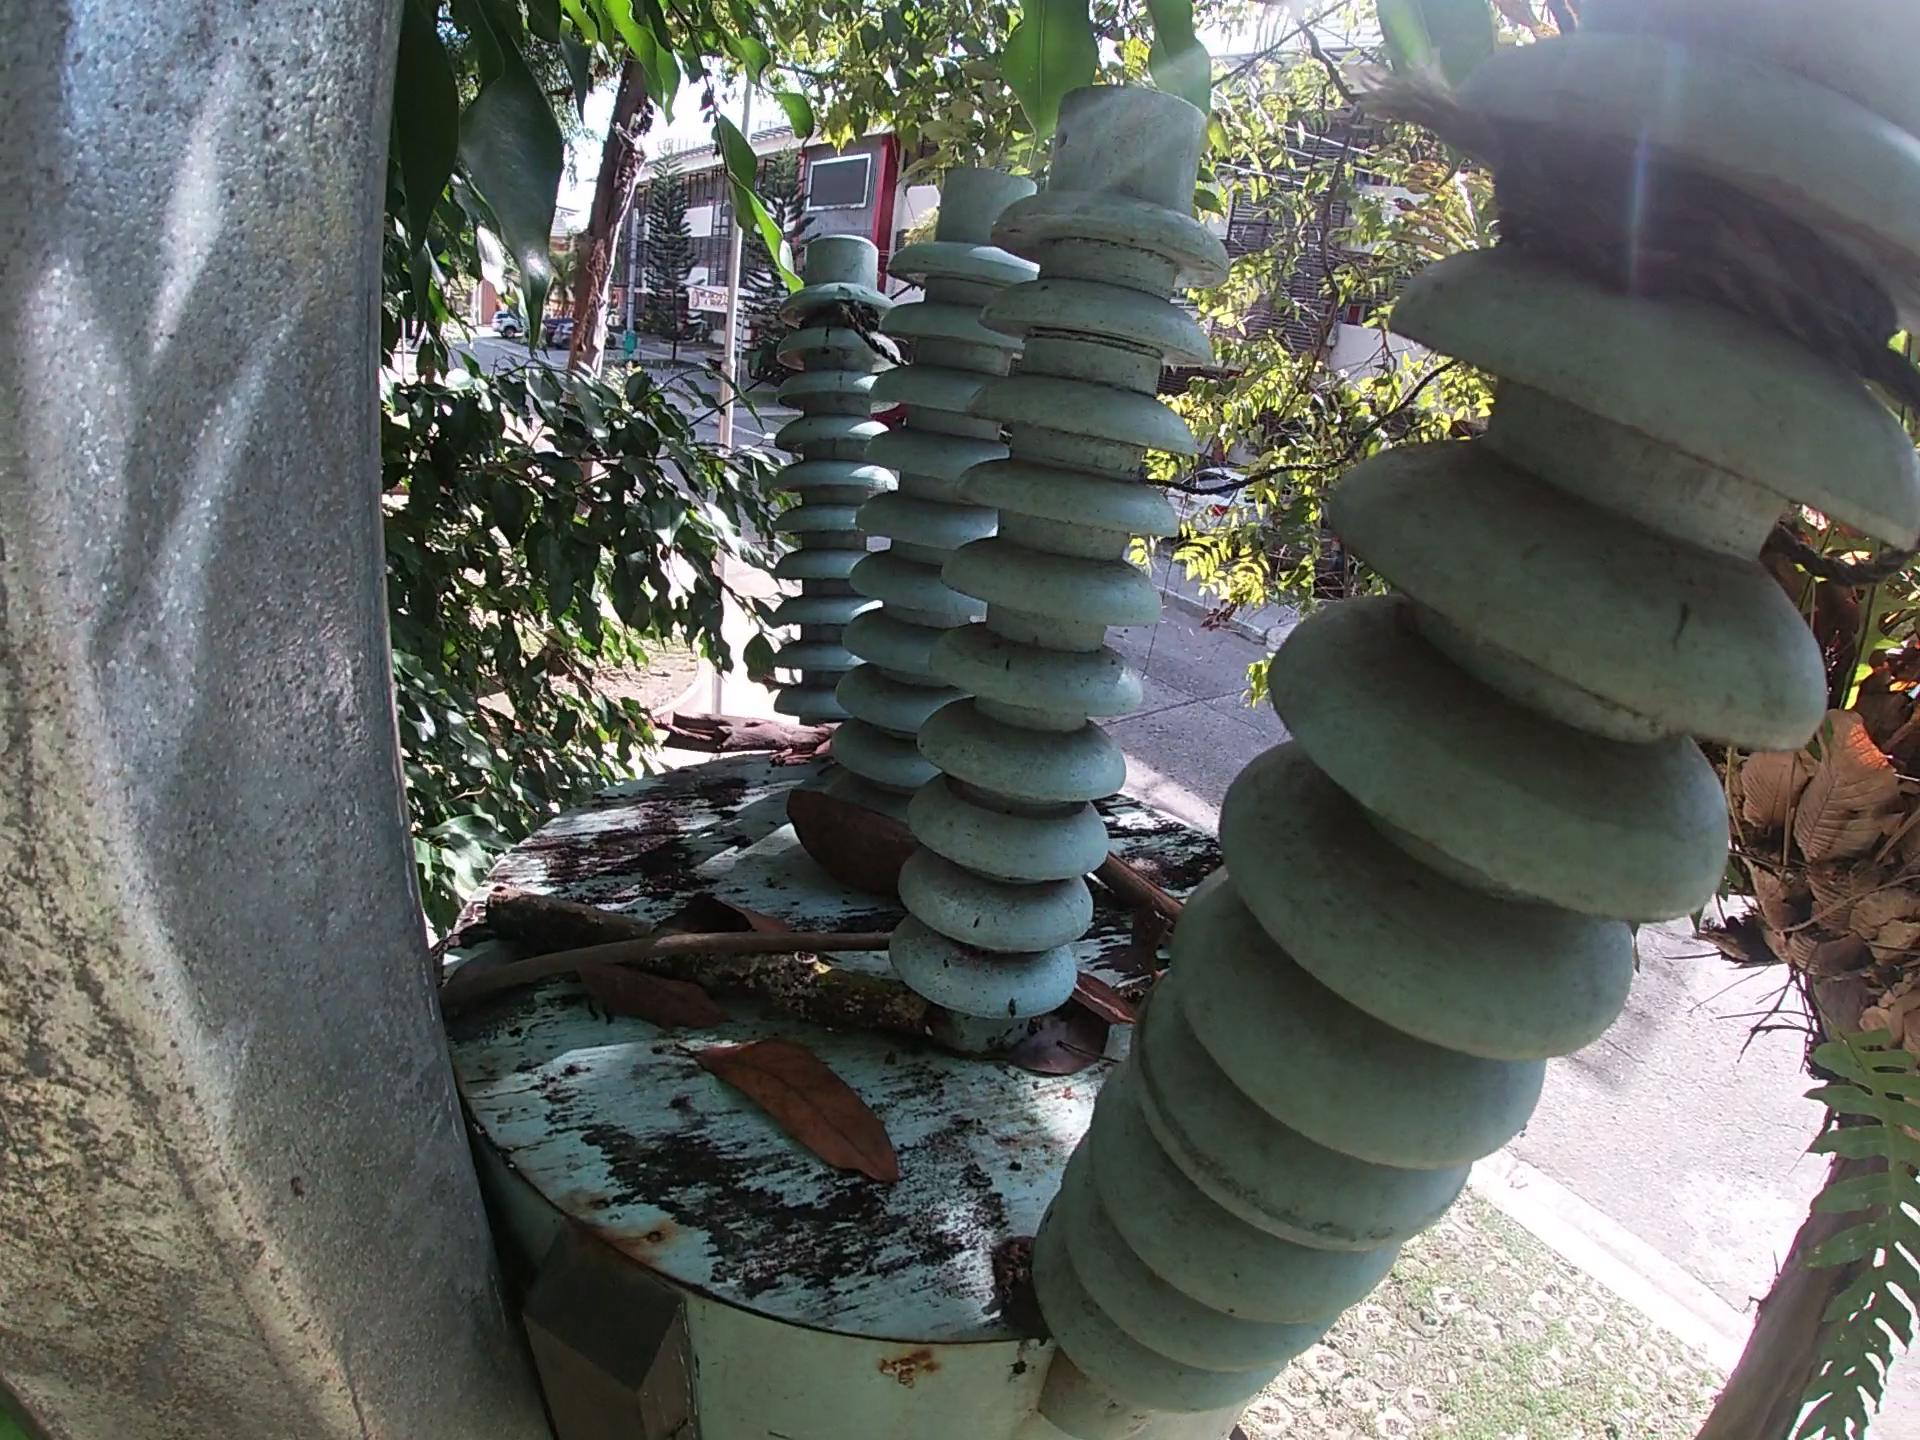leaf: (664, 1035, 912, 1196), (568, 959, 735, 1033), (649, 895, 828, 961), (980, 1012, 1116, 1088)
mahogany fruit: (782, 782, 919, 905), (1061, 976, 1141, 1033)
tree branch: (478, 882, 934, 1041), (428, 929, 906, 1024), (662, 706, 850, 764), (1092, 847, 1188, 924)
